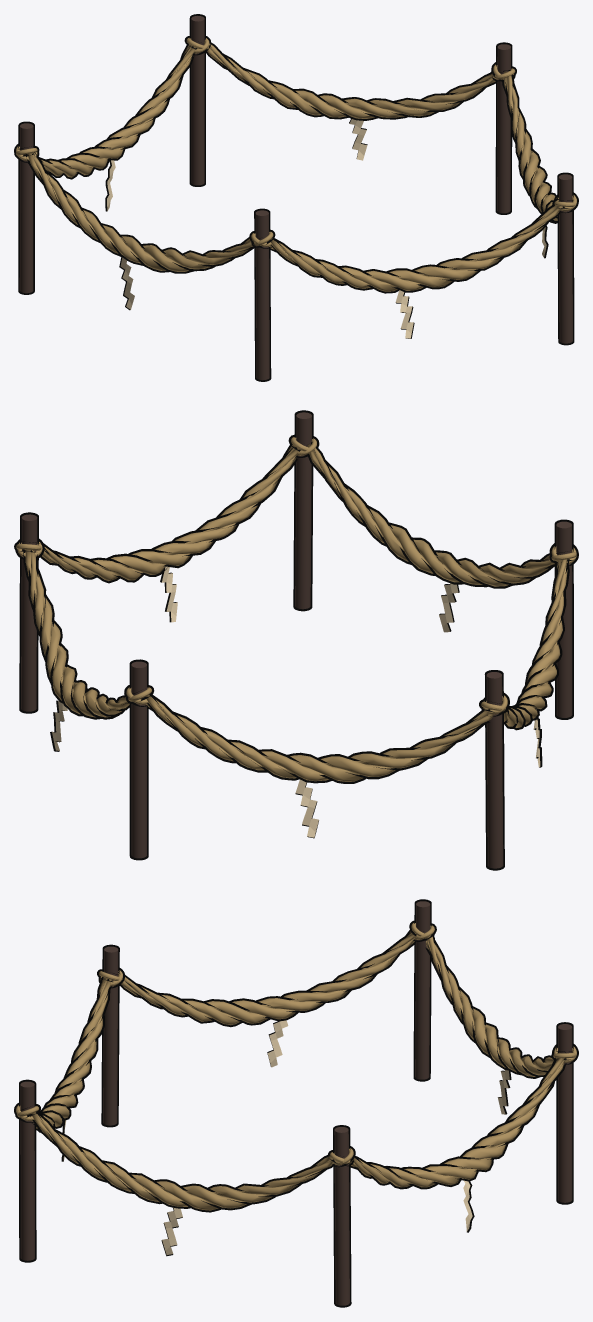
File: env_treehousing_good.glb
The picture shows the model from 3 angles, top to bottom: view 1: azimuth 30°, elevation 25°; view 2: azimuth 150°, elevation 25°; view 3: azimuth 270°, elevation 25°; orthographic projection. The views are drawn at different scales.
Visible parts, largest first — view 1: Circle.001; view 2: Circle.001; view 3: Circle.001.
Part boxes in pixels (x1=…): Circle.001: x1=14, y1=14, x2=578, y2=381; Circle.001: x1=14, y1=410, x2=578, y2=870; Circle.001: x1=14, y1=899, x2=578, y2=1307.
Bounding box in the file's own units: 6.34 × 2.19 × 6.37.
Materials: 2 (1 with a texture image).
